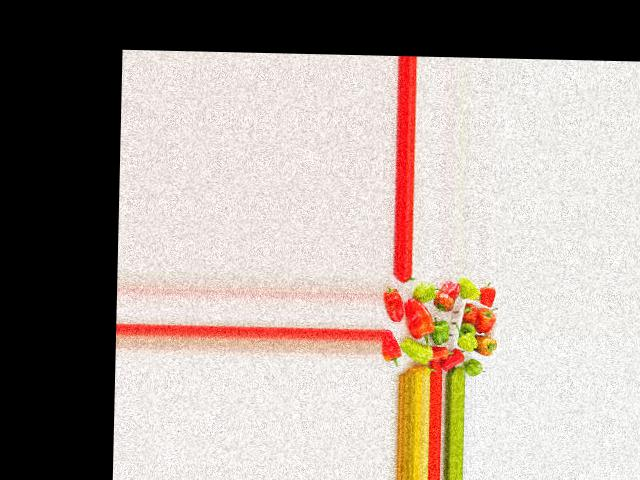bell_pepper: (380, 334, 404, 368)
